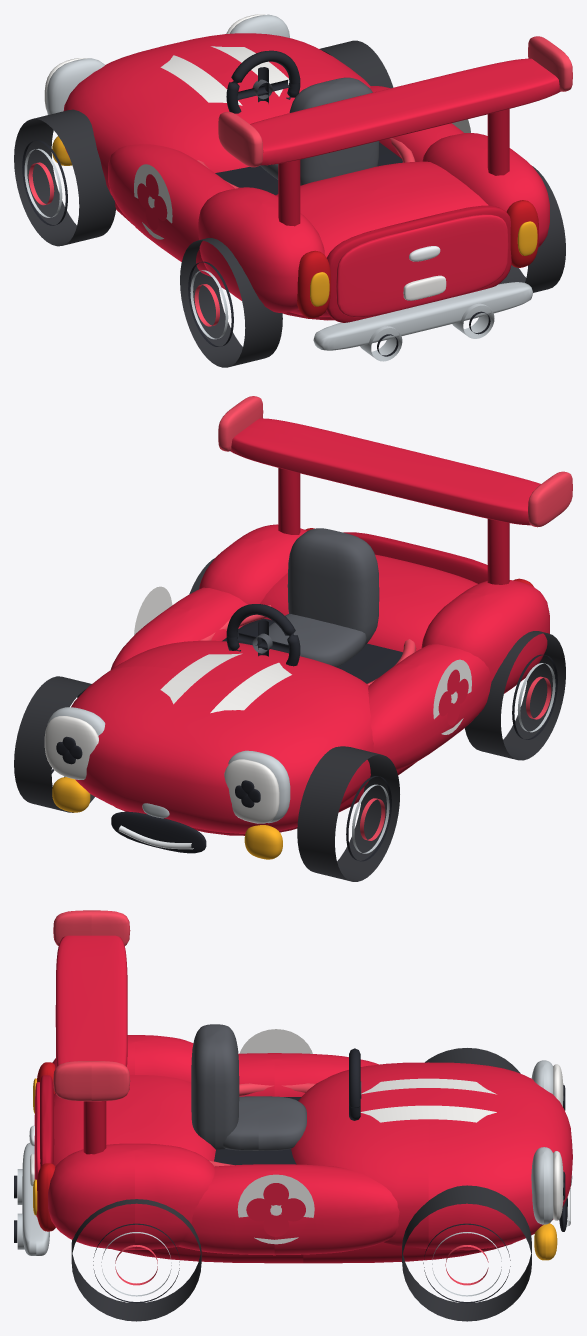
Rendered from red-kart.glb.
3 renders of one model, top to bottom at view 1: azimuth 30°, elevation 25°; view 2: azimuth 150°, elevation 25°; view 3: azimuth 270°, elevation 25°, orthographic.
Parts seen in each view (by area): view 1: Red Kart - single cockpit; view 2: Red Kart - single cockpit; view 3: Red Kart - single cockpit.
Boxes of the visible parts, x1,y1,x2,y2 form: Red Kart - single cockpit: [14, 14, 572, 367]; Red Kart - single cockpit: [14, 396, 572, 881]; Red Kart - single cockpit: [14, 910, 572, 1321].
Size of the model in its own units: 2.4 by 1.76 by 3.48.
